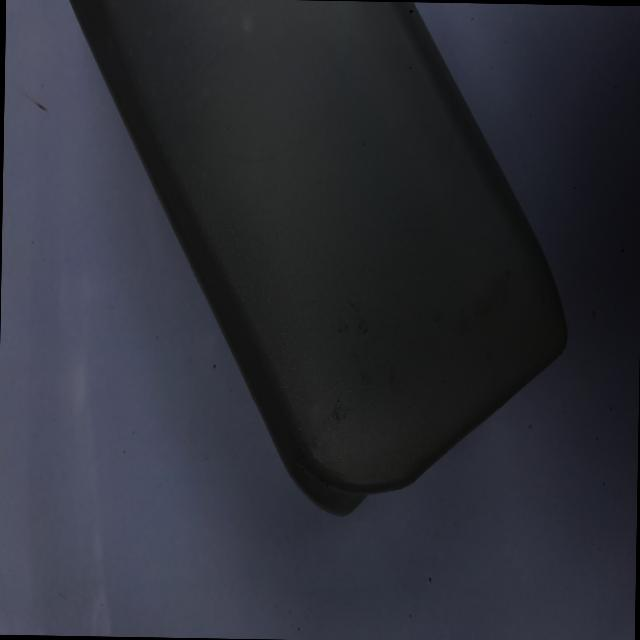Plastic: (49, 0, 595, 561)
